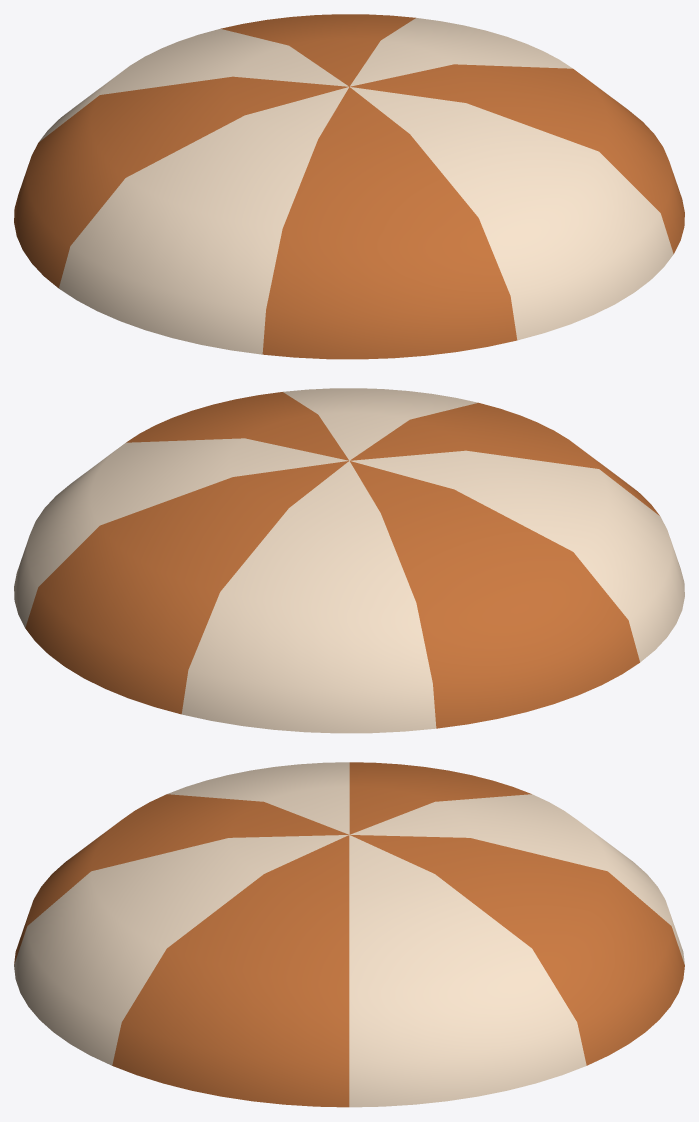
File: dragon_recovery.main_01.glb
The picture shows the model from 3 angles, top to bottom: view 1: azimuth 30°, elevation 25°; view 2: azimuth 150°, elevation 25°; view 3: azimuth 270°, elevation 25°; orthographic projection.
Visible parts, largest first — view 1: dragon_recovery.main_01.mesh_Parachute_canopy_fabric, dragon_recovery.main_01.mesh_Spray-on_insulation; view 2: dragon_recovery.main_01.mesh_Spray-on_insulation, dragon_recovery.main_01.mesh_Parachute_canopy_fabric; view 3: dragon_recovery.main_01.mesh_Parachute_canopy_fabric, dragon_recovery.main_01.mesh_Spray-on_insulation.
Boxes of the visible parts, x1,y1,x2,y2 form: dragon_recovery.main_01.mesh_Parachute_canopy_fabric: (39,18,673,354); dragon_recovery.main_01.mesh_Spray-on_insulation: (14,14,684,359); dragon_recovery.main_01.mesh_Spray-on_insulation: (25,392,659,728); dragon_recovery.main_01.mesh_Parachute_canopy_fabric: (14,388,684,733); dragon_recovery.main_01.mesh_Parachute_canopy_fabric: (14,762,684,1107); dragon_recovery.main_01.mesh_Spray-on_insulation: (14,762,684,1107).
Bounding box in the file's own units: 30 × 6.47 × 30.
